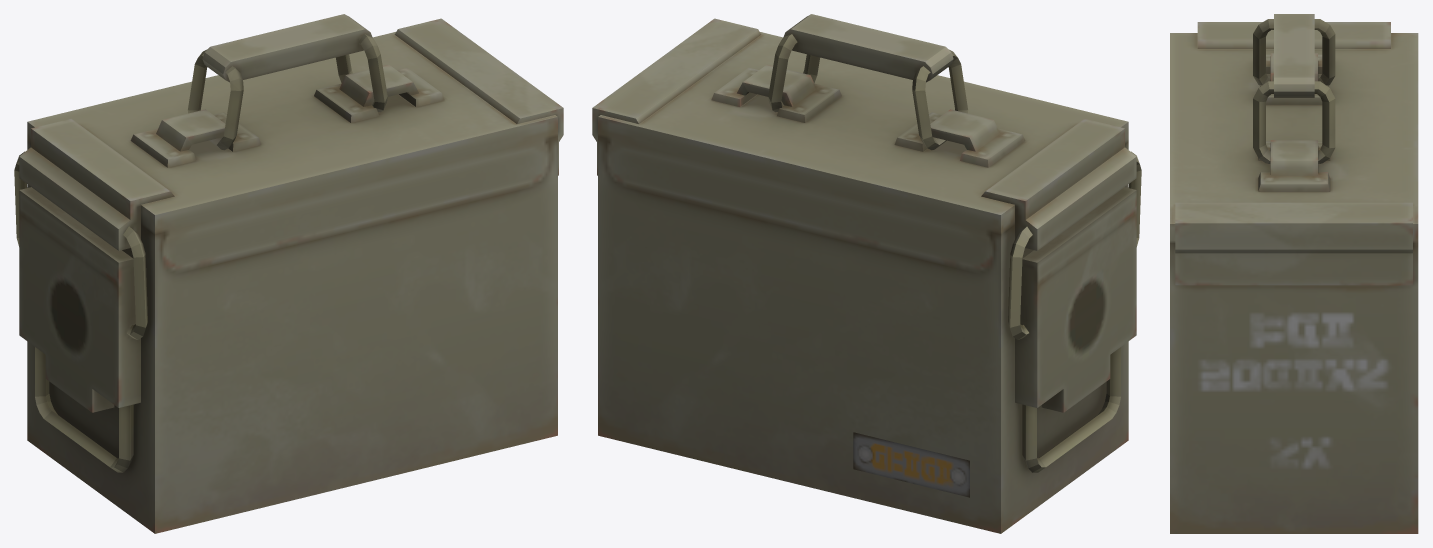
File: P_AmmoBox_001_S1_M01.obj
The picture shows the model from 3 angles, left to right: view 1: azimuth 30°, elevation 25°; view 2: azimuth 150°, elevation 25°; view 3: azimuth 270°, elevation 25°; orthographic projection. The views are drawn at different scales.
Size of the model in its own units: 0.5374 by 0.4753 by 0.2746.
1 material, 1 textured.
